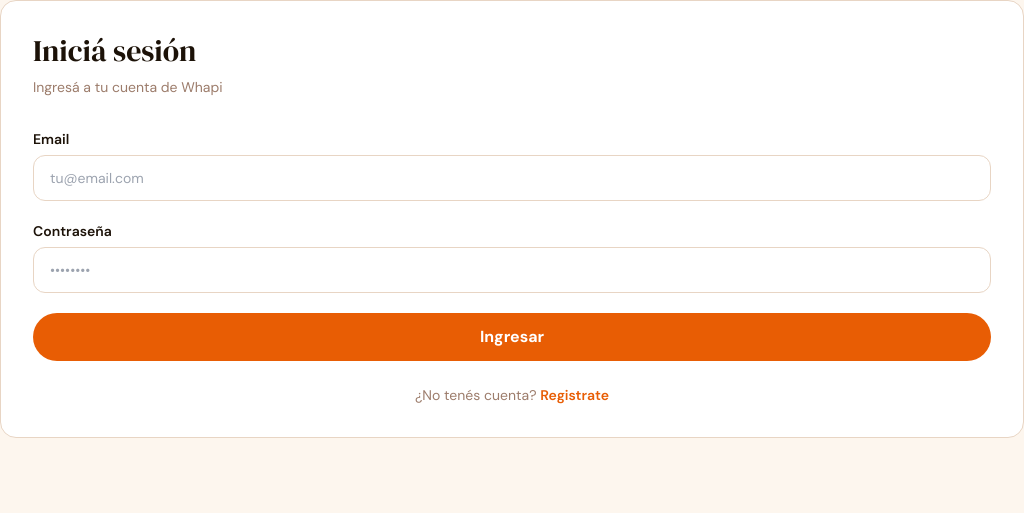
LoginPage › muestra error en credenciales incorrectas
Type "user@test.com" into the field labelled "Email" at {"x": 512, "y": 178}, box [33,155,991,201]
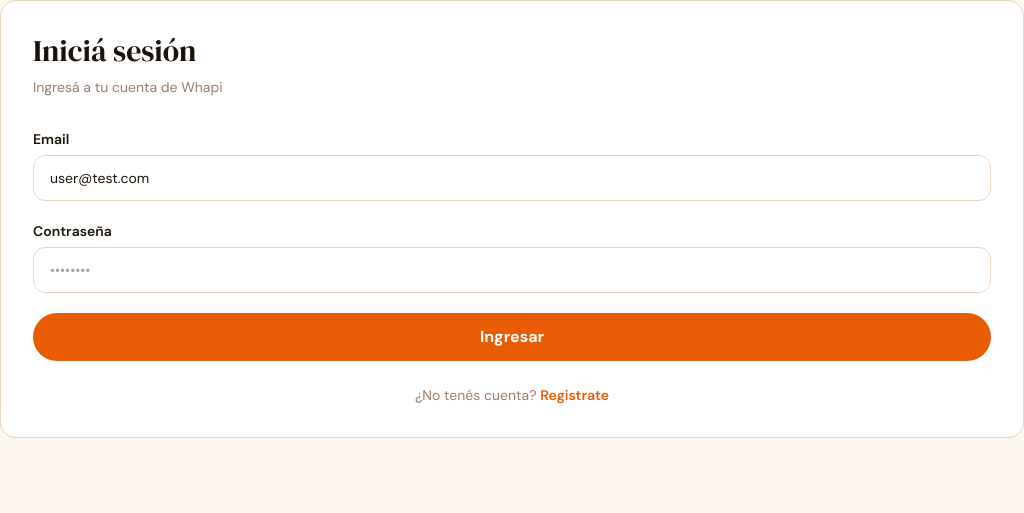
Type "mal" into the password field labelled "Contraseña" at {"x": 512, "y": 270}, box [33,247,991,293]
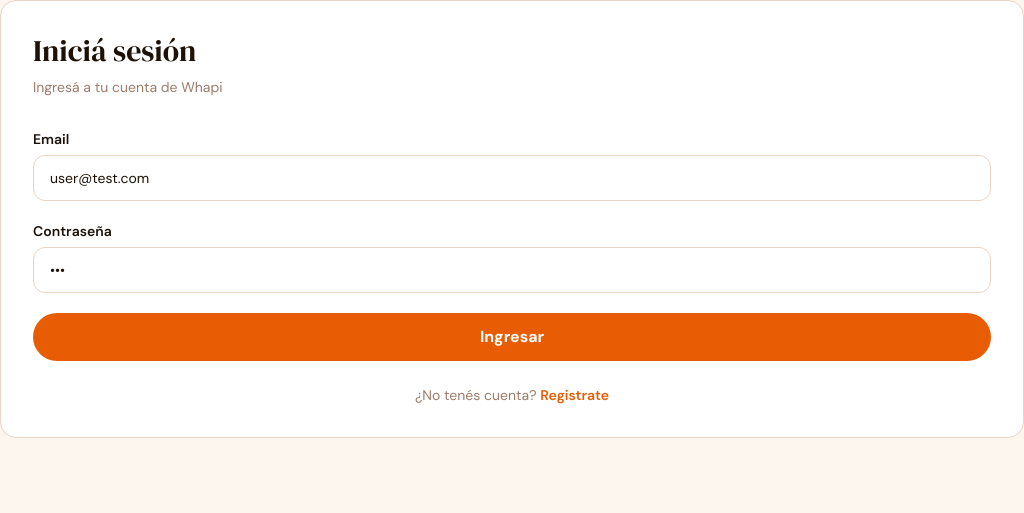
Click the button "Ingresar" at {"x": 512, "y": 337}, box [33,313,991,361]
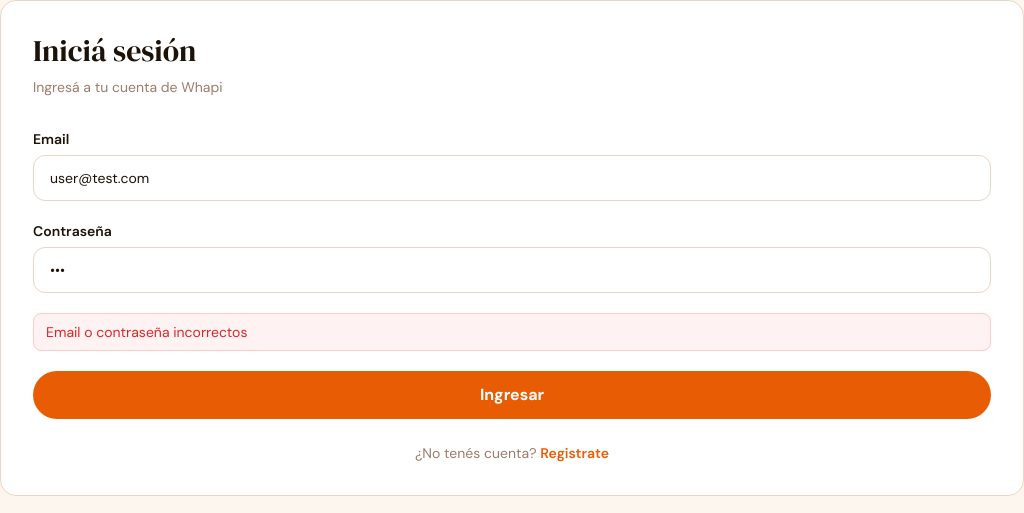
Now the message shows "Email o contraseña", box [46,323,247,341]
